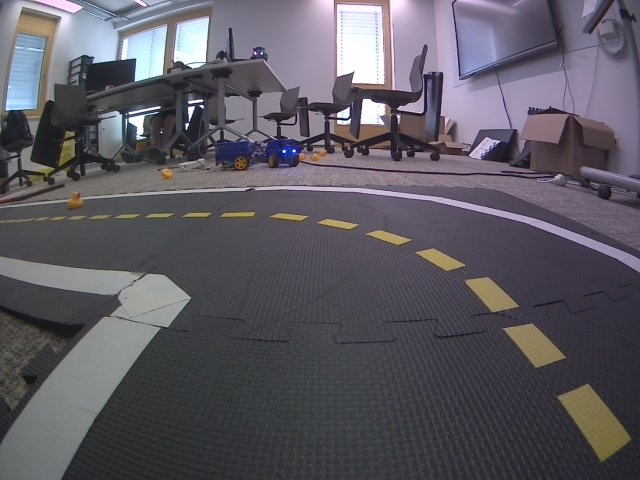Bot: (214, 142, 254, 173), (263, 138, 301, 167), (248, 47, 269, 60)
